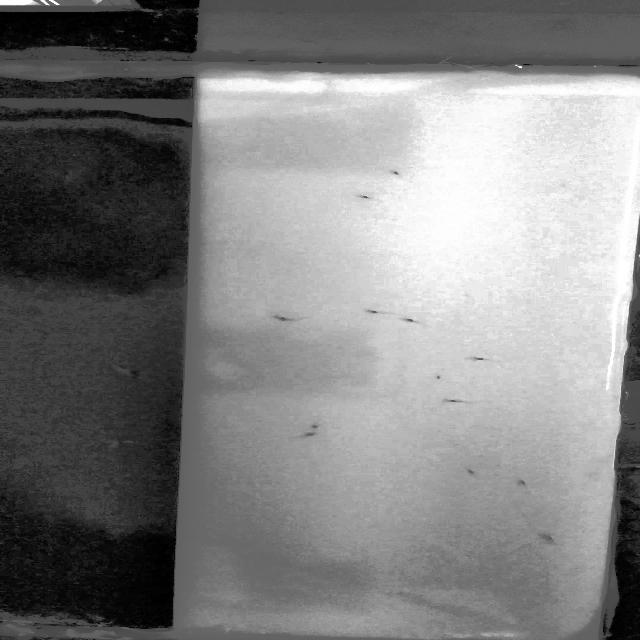shrimp: (253, 310, 301, 328), (346, 189, 387, 206), (502, 476, 541, 490), (432, 396, 479, 407), (454, 467, 483, 480), (534, 532, 563, 545), (363, 307, 388, 320), (292, 431, 324, 441), (380, 166, 408, 177), (400, 317, 428, 328), (471, 355, 491, 367), (306, 423, 326, 430)
